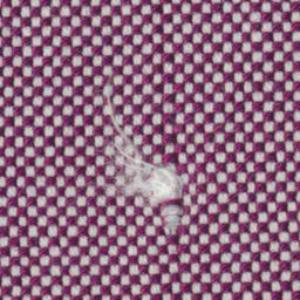fault: (73, 77, 187, 236)
